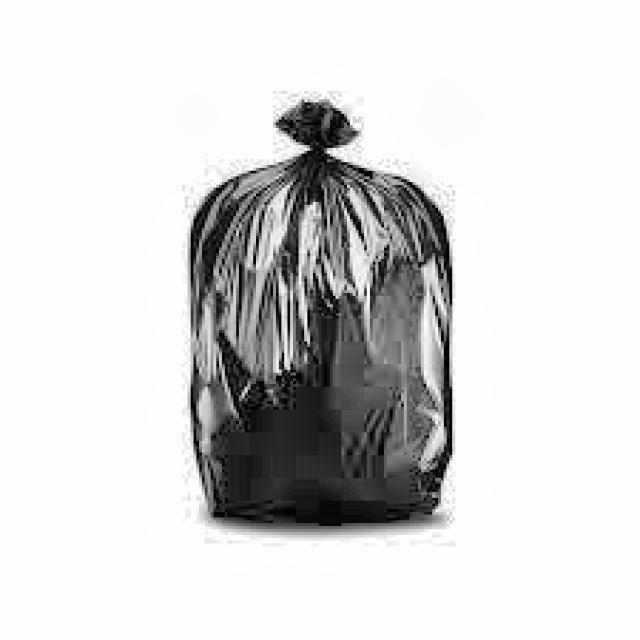Trashbag: (168, 83, 463, 540)
